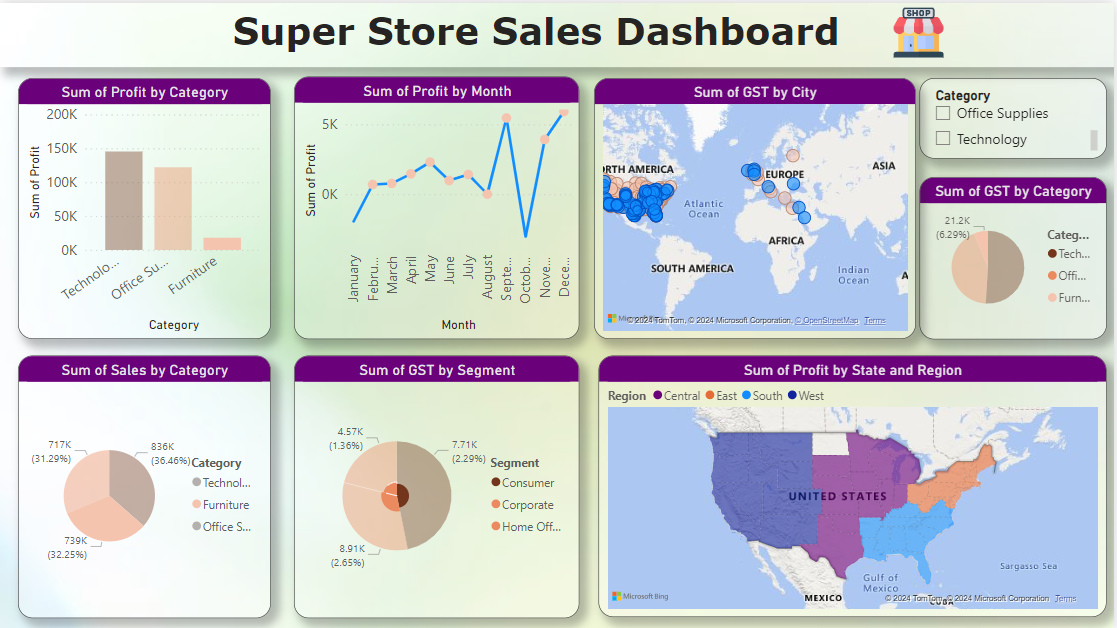

What the dashboard file says about the page in this screenshot:
{"tool":"powerbi","page":{"name":"Home","canvas":[1280,720],"ordinal":0},"visuals":[{"type":"textbox","box":[0,0,1280,74],"z":0},{"type":"clusteredColumnChart","fields":{"Category":["productData.Category"],"Y":["Sum(Master Data.Profit)"]},"box":[20.8,86.8,290.6,300],"z":1000},{"type":"lineChart","fields":{"Category":["Master Data.Order Date.Variation.Date Hierarchy.Month","Master Data.Order Date.Variation.Date Hierarchy.Day"],"Y":["Sum(Master Data.Profit)"]},"box":[337.7,84.9,328.3,301.9],"z":2000},{"type":"slicer","fields":{"Values":["productData.Category"]},"box":[1054,86,216,94],"z":3000},{"type":"pieChart","fields":{"Y":["Sum(Master Data.Sales)"],"Category":["Master Data.Category"]},"box":[20,408,292,212],"z":4000},{"type":"pieChart","fields":{"Y":["Sum(Master Data.GST)"],"Category":["Master Data.Segment"]},"box":[338,408,328,300],"z":5000},{"type":"pieChart","fields":{"Y":["Sum(Master Data.GST)"],"Category":["productData.Category"]},"box":[1056.7,200,215,186.7],"z":6000},{"type":"map","fields":{"Size":["Sum(Master Data.GST)"],"Category":["Master Data.City"]},"box":[683,86.8,369.8,300],"z":7000},{"type":"image","box":[975.5,0,160.4,67.9],"z":8000},{"type":"actionButton","box":[1180.2,15.9,100.2,39.8],"z":9000},{"type":"pageNavigator","box":[20.7,12.7,257.7,55.7],"z":10000},{"type":"clusteredColumnChart","fields":{"Y":["Sum(Master Data.Sales)"],"Category":["Master Data.Customer Name"]},"box":[682,408,590,300],"z":11000},{"type":"actionButton","box":[20,636,290,72],"z":12000}]}

Visuals, with their boxes in screenshot pixels (x1, y1, x2, y2), scaled from the page's 1280x720 canvas onto the 1117x628 screenshot:
textbox: <bbox>0, 0, 1116, 65</bbox>
clusteredColumnChart - productData.Category x Sum(Master Data.Profit): <bbox>18, 76, 272, 337</bbox>
lineChart - Master Data.Order Date.Variation.Date Hierarchy.Month x Master Data.Order Date.Variation.Date Hierarchy.Day: <bbox>295, 74, 581, 337</bbox>
slicer - productData.Category: <bbox>920, 75, 1108, 157</bbox>
pieChart - Sum(Master Data.Sales) x Master Data.Category: <bbox>17, 356, 272, 541</bbox>
pieChart - Sum(Master Data.GST) x Master Data.Segment: <bbox>295, 356, 581, 618</bbox>
pieChart - Sum(Master Data.GST) x productData.Category: <bbox>922, 174, 1110, 337</bbox>
map - Sum(Master Data.GST) x Master Data.City: <bbox>596, 76, 919, 337</bbox>
image: <bbox>851, 0, 991, 59</bbox>
actionButton: <bbox>1030, 14, 1116, 49</bbox>
pageNavigator: <bbox>18, 11, 243, 60</bbox>
clusteredColumnChart - Sum(Master Data.Sales) x Master Data.Customer Name: <bbox>595, 356, 1110, 618</bbox>
actionButton: <bbox>17, 555, 271, 618</bbox>
